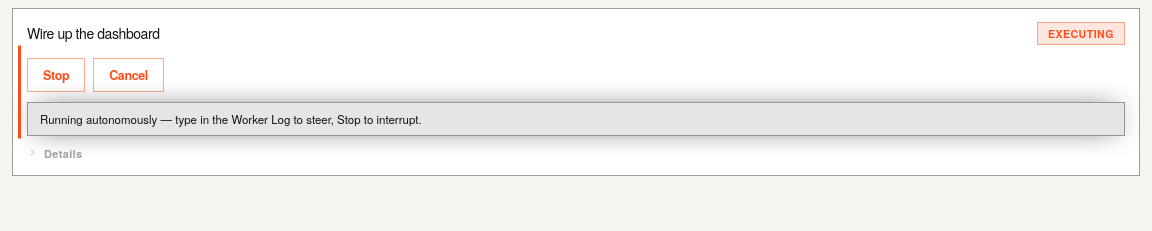
Test: <TaskList> › reveals the metadata dropdown on demand for the selected row
Expected: the text "flow: plan" is not shown
Step 1. Click the button "Details" → (55, 154), box [27,146,82,161]
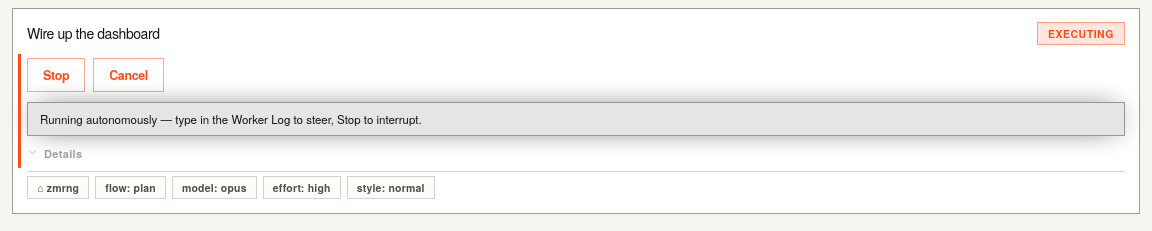
Now the text "flow: plan" is shown, box [95,176,166,199]
